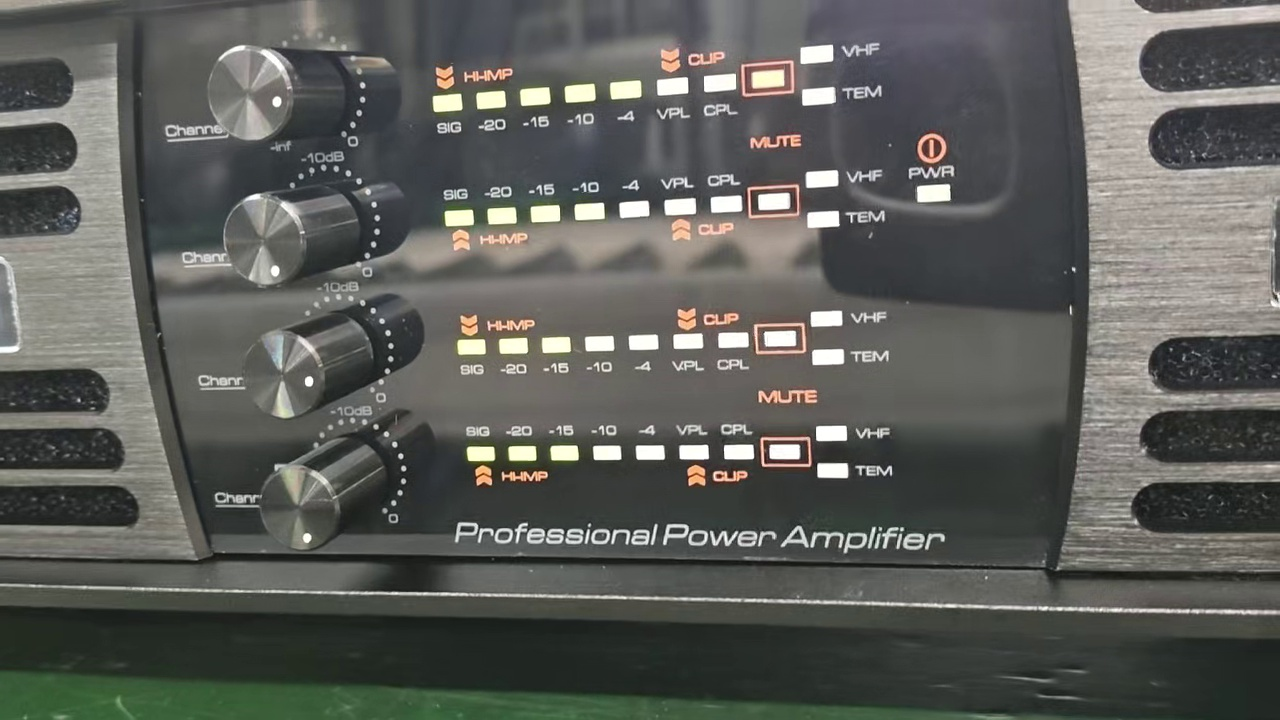FP_CPL: (701, 68, 741, 120), (714, 328, 752, 380), (717, 420, 758, 468), (706, 170, 745, 216)
FP_PWR: (907, 162, 957, 206)
FP_PWR_area: (904, 130, 959, 212)
FP_SIG_area: (421, 42, 898, 139), (442, 165, 889, 254), (461, 417, 895, 498), (454, 308, 901, 382)
FP_VPL: (657, 171, 702, 218), (651, 73, 692, 123), (668, 330, 709, 380), (674, 420, 714, 465)
